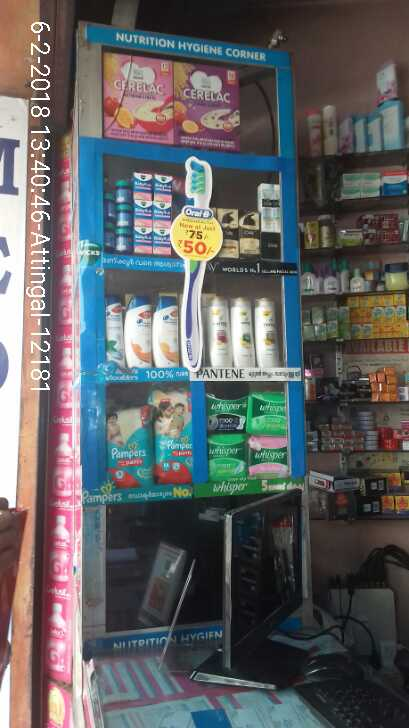vicks: (105, 173, 173, 251)
